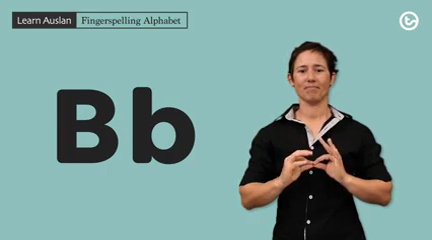B: (280, 135, 351, 186)
